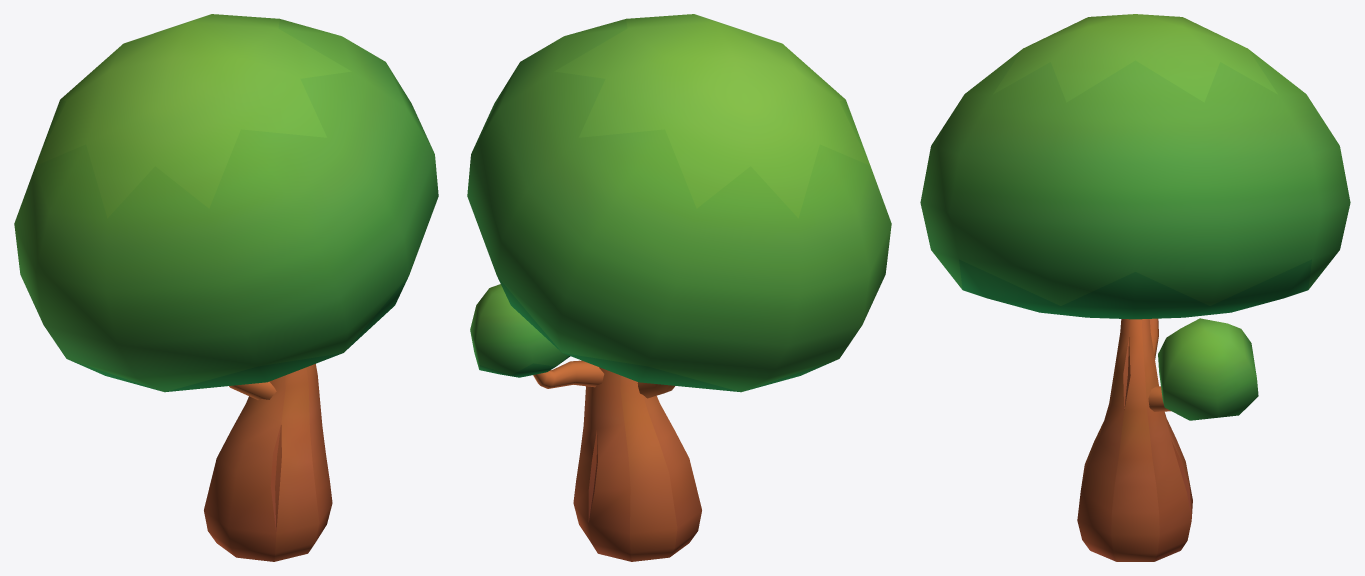
The model's file is Tree_1_A_Color1.glb.
3 renders of one model, left to right at view 1: azimuth 30°, elevation 25°; view 2: azimuth 150°, elevation 25°; view 3: azimuth 270°, elevation 25°, orthographic. The views are drawn at different scales.
Parts seen in each view (by area): view 1: Tree_1_A_Color1; view 2: Tree_1_A_Color1; view 3: Tree_1_A_Color1.
Part boxes in pixels (<box>): Tree_1_A_Color1: <box>14,14,438,561</box>; Tree_1_A_Color1: <box>467,14,891,561</box>; Tree_1_A_Color1: <box>920,14,1350,561</box>.
Size of the model in its own units: 3.18 by 4.16 by 3.25.
Materials: 1 (1 with a texture image).
